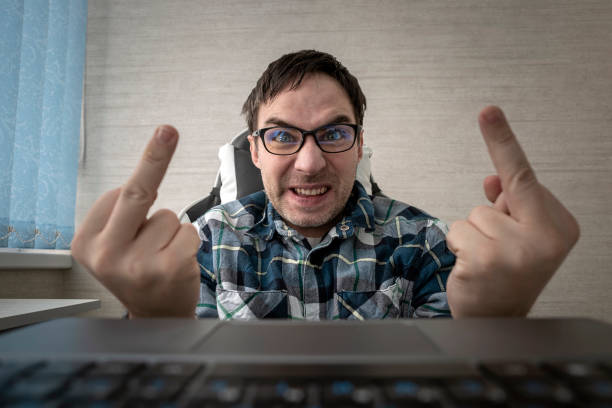insulting_gesture: (440, 104, 582, 319), (68, 118, 203, 317)
